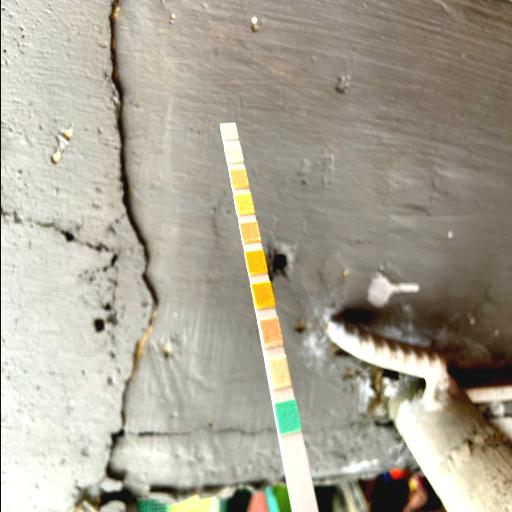Bilirubin: (268, 358, 286, 386)
Blood: (248, 252, 262, 272)
Glucose: (278, 404, 296, 432)
Ketone: (262, 319, 278, 345)
Leukocytes: (220, 124, 234, 140)
Nitrite: (226, 147, 240, 163)
Protein: (236, 195, 250, 215)
SpGravity: (254, 284, 270, 308)
Urobilinogen: (230, 170, 245, 188)
pH: (242, 223, 256, 243)
strip: (219, 123, 318, 512)
